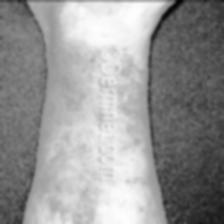Non-Cancerous Skin Condition: (51, 41, 95, 224), (122, 0, 152, 224)
